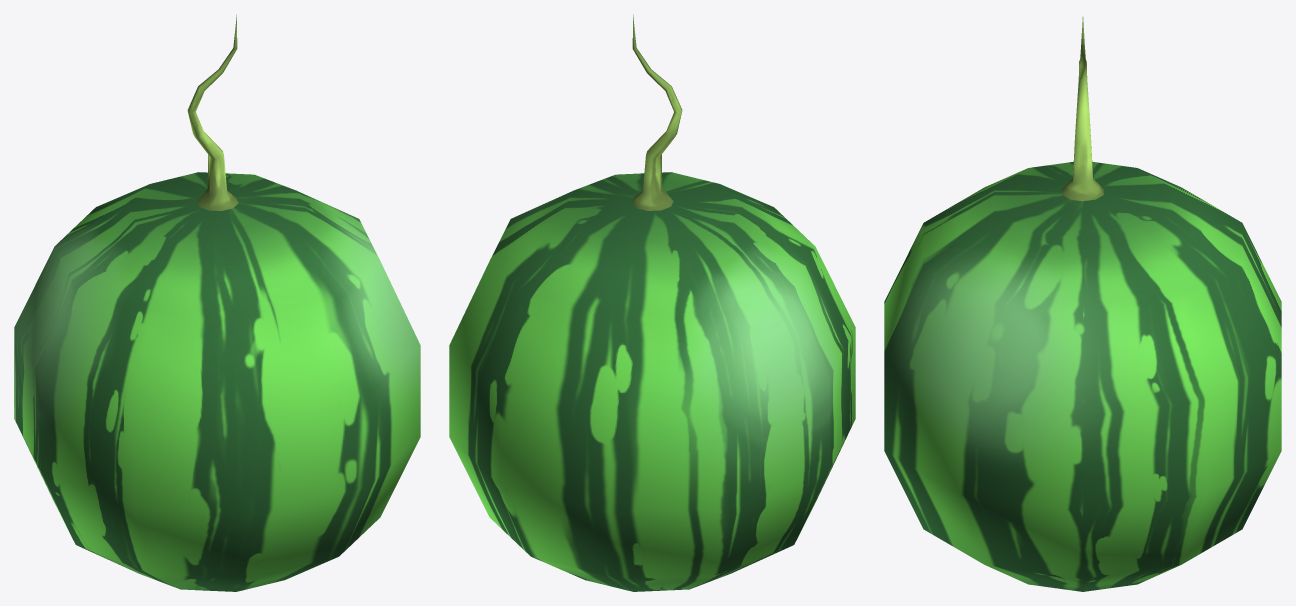
Rendered from watermelon.fbx.
3 renders of one model, left to right at view 1: azimuth 30°, elevation 25°; view 2: azimuth 150°, elevation 25°; view 3: azimuth 270°, elevation 25°, orthographic. The views are drawn at different scales.
Visible parts, largest first — view 1: watermelon; view 2: watermelon; view 3: watermelon.
Boxes of the visible parts, x1,y1,x2,y2 form: watermelon: (14,14,420,591); watermelon: (449,14,855,591); watermelon: (884,17,1281,591).
Bounding box in the file's own units: 3.64 × 5.37 × 3.46.
